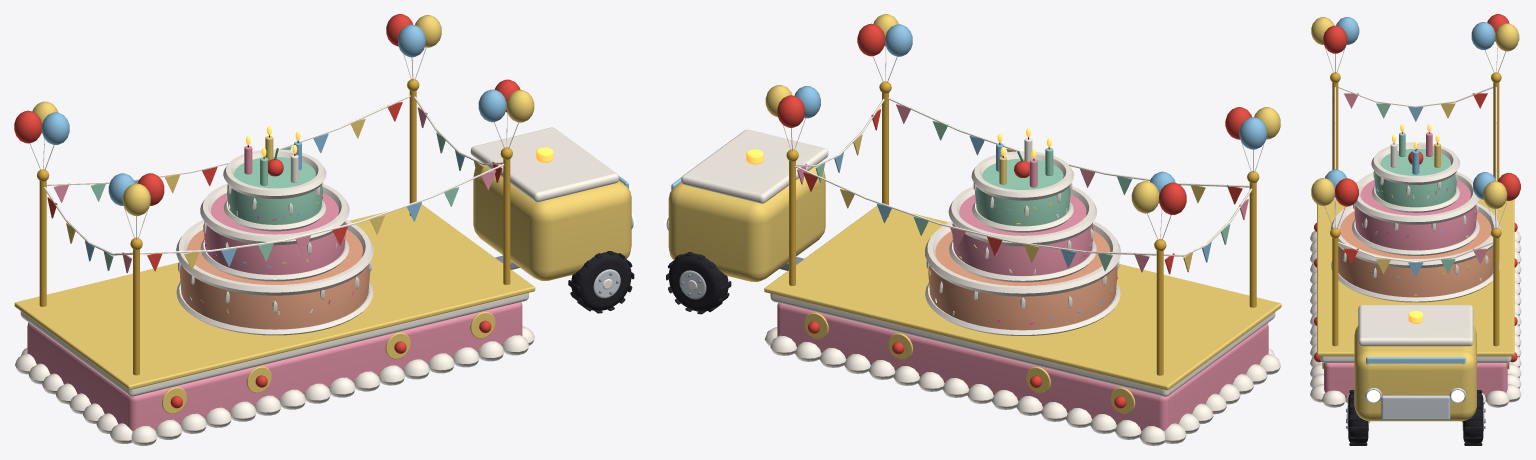
Rendered from parade_float.glb.
3 views of the same model, side by side, from view 1: azimuth 30°, elevation 25°; view 2: azimuth 150°, elevation 25°; view 3: azimuth 270°, elevation 25° (orthographic). The views are drawn at different scales.
Parts seen in each view (by area): view 1: parade_float; view 2: parade_float; view 3: parade_float.
Part boxes in pixels (bbox=[...]): parade_float: bbox=[14, 14, 635, 445]; parade_float: bbox=[664, 14, 1281, 445]; parade_float: bbox=[1310, 14, 1521, 445].
Size of the model in its own units: 7.08 by 3.19 by 2.76.
1 material, 1 textured.
